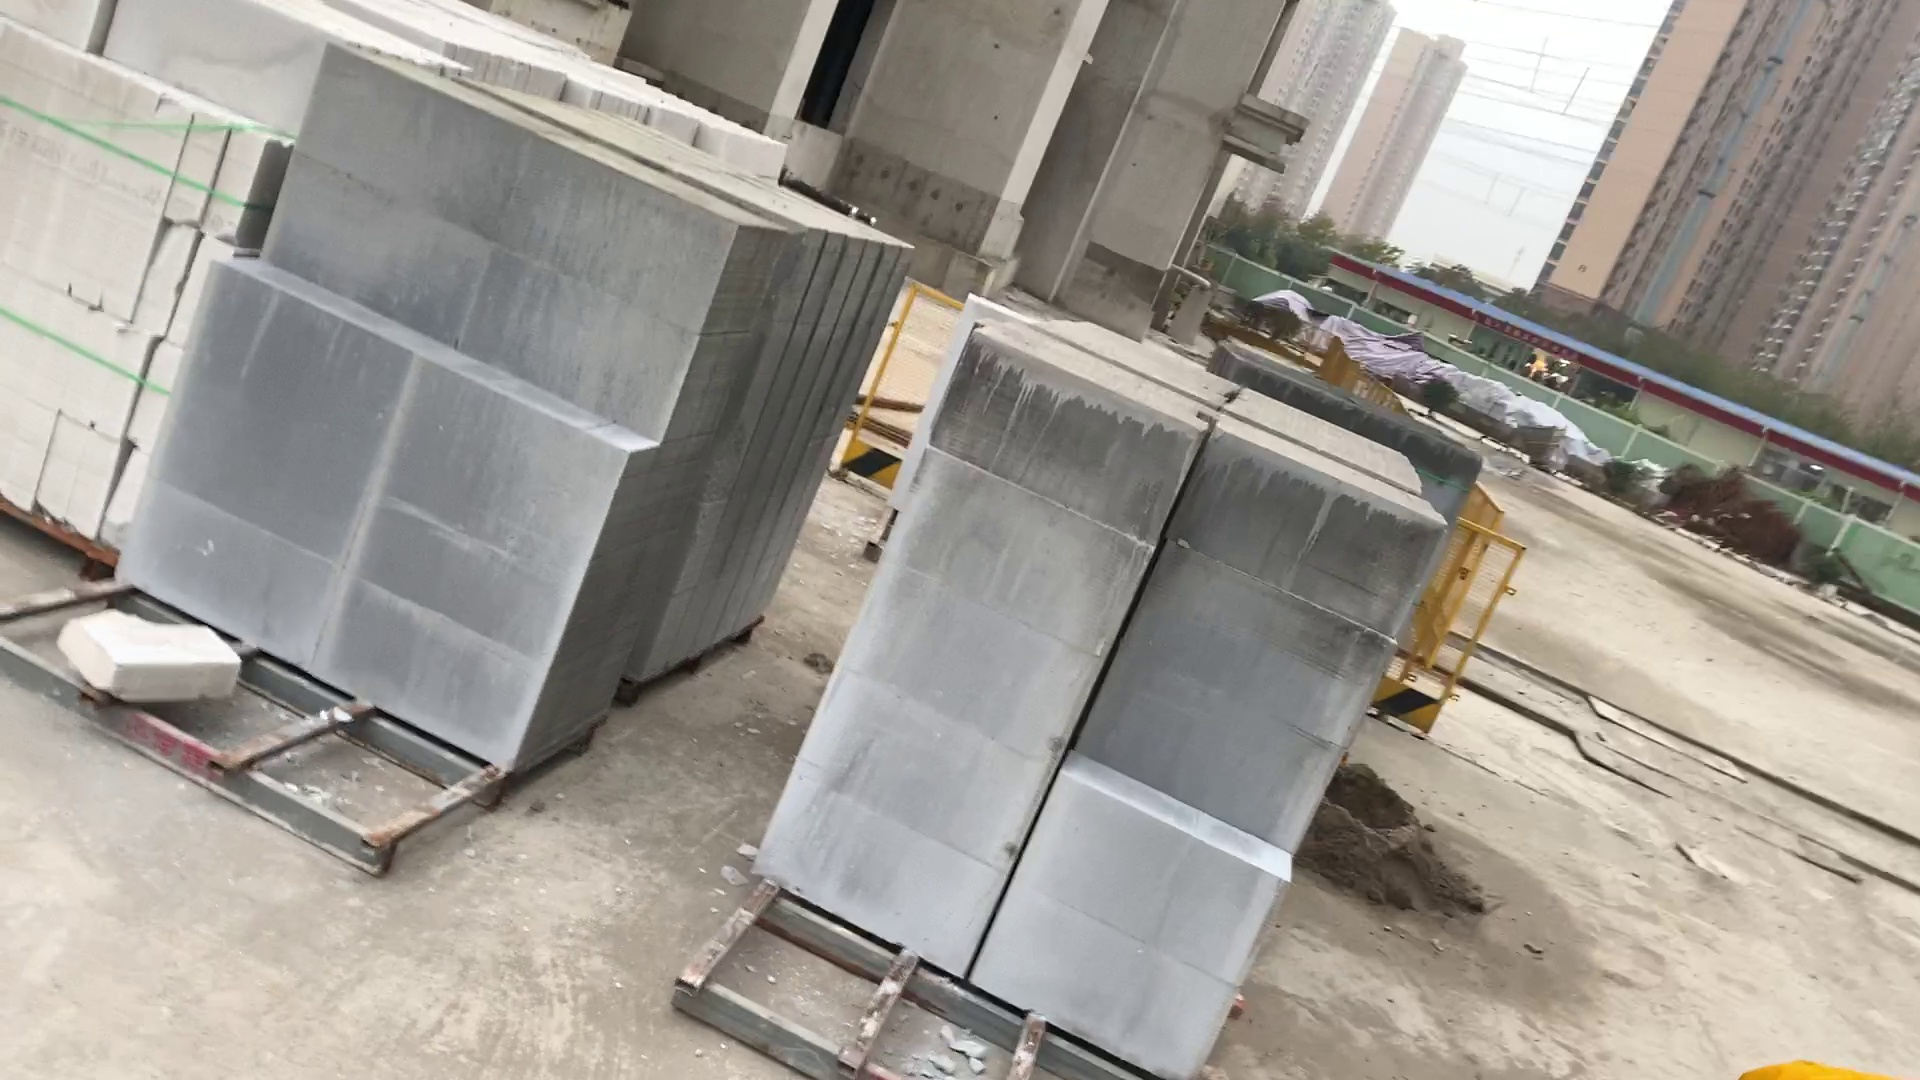brickwork: (189, 57, 913, 795), (750, 319, 1432, 1075), (4, 1, 326, 564), (1230, 330, 1491, 512)
